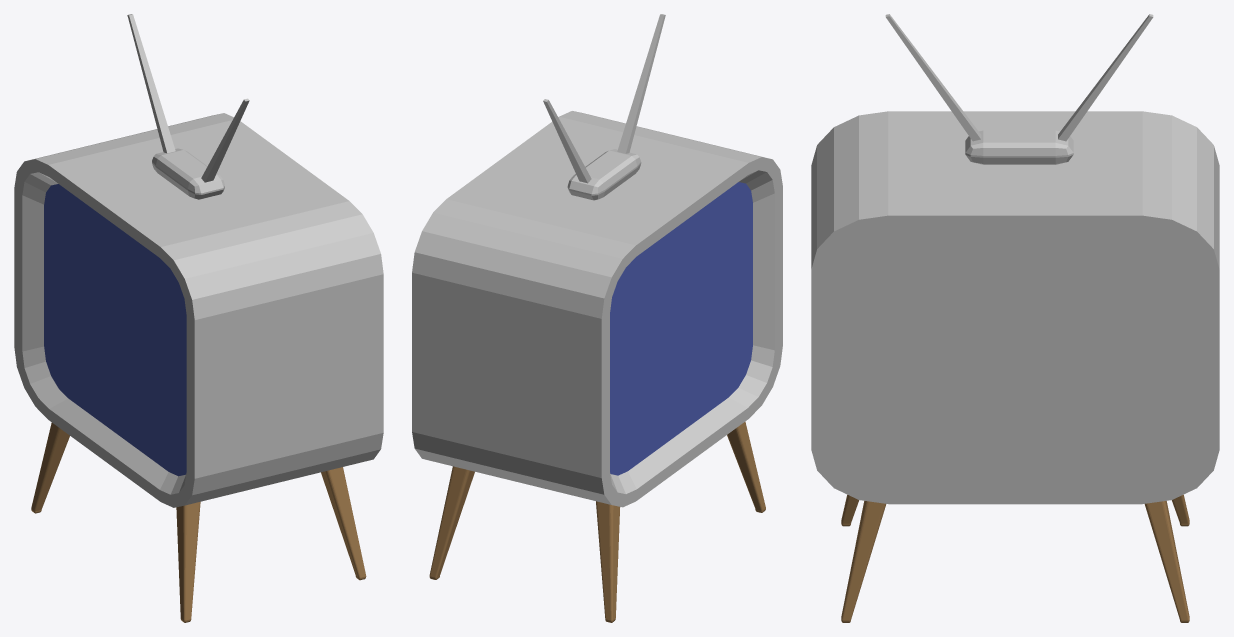
Rendered from Old Screen_2.fbx.
3 renders of one model, left to right at view 1: azimuth 30°, elevation 25°; view 2: azimuth 150°, elevation 25°; view 3: azimuth 270°, elevation 25°, orthographic. The views are drawn at different scales.
Visible parts, largest first — view 1: Old Screen_2; view 2: Old Screen_2; view 3: Old Screen_2.
Boxes of the visible parts, <box> form: Old Screen_2: <box>14,14,383,622</box>; Old Screen_2: <box>412,14,782,622</box>; Old Screen_2: <box>811,14,1219,622</box>.
Size of the model in its own units: 0.3968 by 0.9816 by 0.6565.
